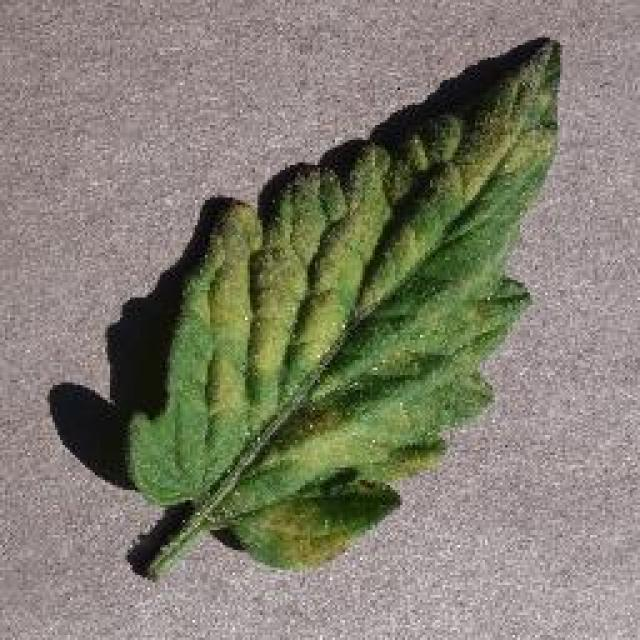Tomato___Leaf_Mold: (128, 40, 552, 575)
